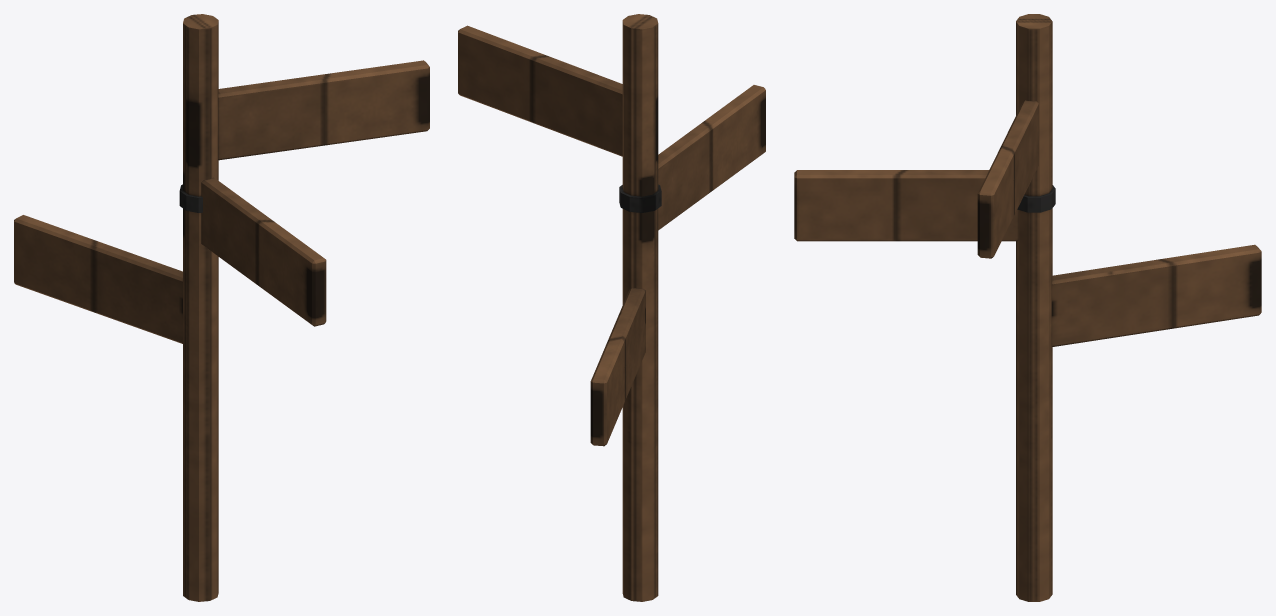
Rendered from Prop_Signpost.fbx.
3 views of the same model, side by side, from view 1: azimuth 30°, elevation 25°; view 2: azimuth 150°, elevation 25°; view 3: azimuth 270°, elevation 25° (orthographic).
Visible parts, largest first — view 1: Prop_Signpost, Prop_Signpost.002, Prop_Signpost.001, Prop_Signpost.003; view 2: Prop_Signpost, Prop_Signpost.002, Prop_Signpost.003, Prop_Signpost.001; view 3: Prop_Signpost, Prop_Signpost.001, Prop_Signpost.003, Prop_Signpost.002.
Boxes of the visible parts, left/top/right/bottom form: Prop_Signpost: left=179, top=14, right=218, bottom=601; Prop_Signpost.002: left=218, top=60, right=429, bottom=160; Prop_Signpost.001: left=14, top=215, right=182, bottom=343; Prop_Signpost.003: left=201, top=177, right=326, bottom=326; Prop_Signpost: left=619, top=14, right=661, bottom=601; Prop_Signpost.002: left=458, top=25, right=622, bottom=156; Prop_Signpost.003: left=658, top=85, right=765, bottom=230; Prop_Signpost.001: left=590, top=288, right=645, bottom=446; Prop_Signpost: left=1016, top=14, right=1055, bottom=601; Prop_Signpost.001: left=1051, top=244, right=1261, bottom=346; Prop_Signpost.003: left=794, top=170, right=1018, bottom=241; Prop_Signpost.002: left=977, top=100, right=1038, bottom=258.
Bounding box in the file's own units: 97.42 × 190 × 140.
